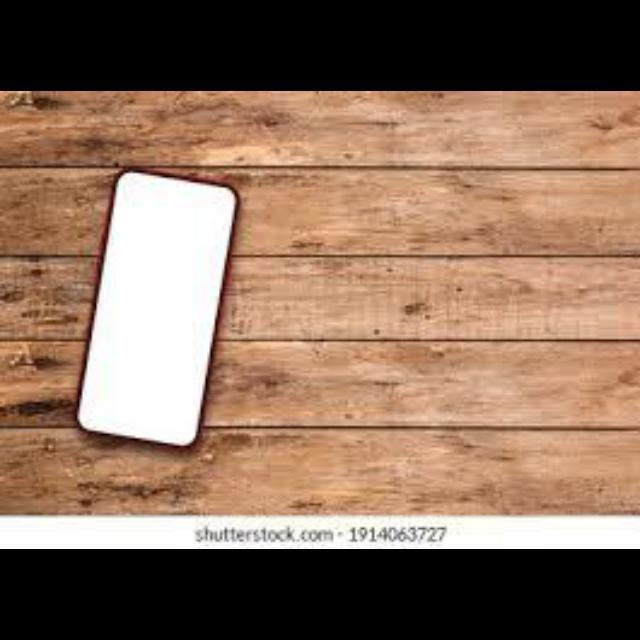phone: (86, 169, 235, 455)
